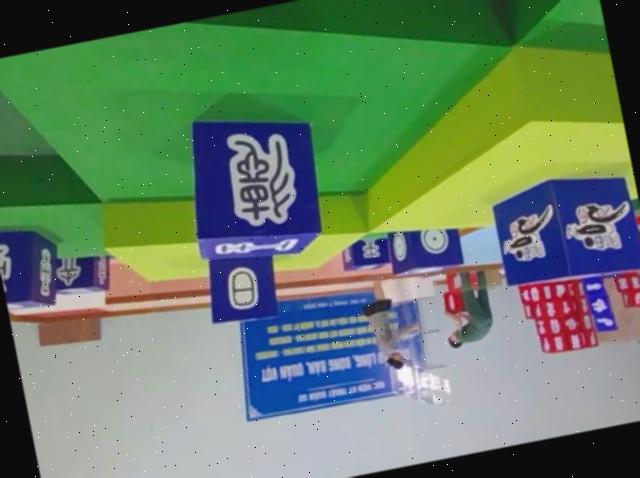R1 Blue: (486, 159, 640, 294)
R2 Fake Blue: (175, 98, 336, 274), (199, 244, 283, 327), (44, 247, 114, 299)
R2 Real Blue: (0, 210, 68, 312), (386, 216, 467, 278), (340, 232, 394, 274), (339, 232, 393, 274)
